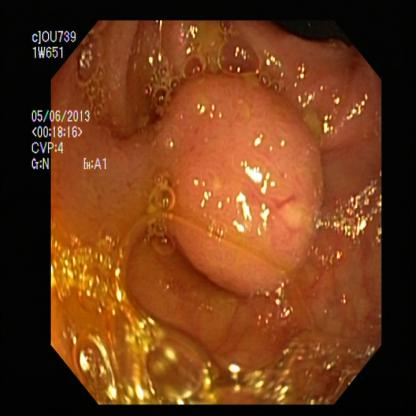Labels: (30, 29, 113, 178)
Polyps: (171, 87, 319, 283)
